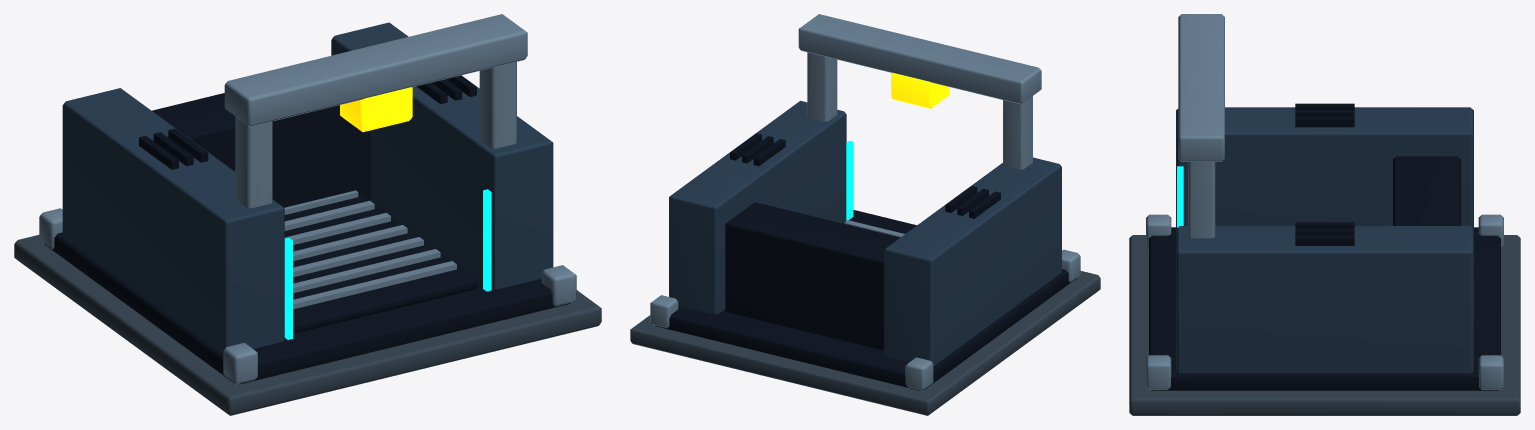
The model's file is fabricator.glb.
3 views of the same model, side by side, from view 1: azimuth 30°, elevation 25°; view 2: azimuth 150°, elevation 25°; view 3: azimuth 270°, elevation 25° (orthographic). The views are drawn at different scales.
Visible parts, largest first — view 1: Factory side pod, Factory side pod.001, Foundation, Gantry bridge, Undercarriage, Rear workshop, Conveyor, Gantry pillar, Gantry pillar.001, Manipulator carriage, Conveyor rib.006, Conveyor rib.005 (+13 smaller); view 2: Factory side pod, Rear workshop, Factory side pod.001, Foundation, Undercarriage, Gantry bridge, Gantry pillar, Gantry pillar.001, Manipulator carriage, Corner lock, Corner lock.002, Door guidance.001 (+1 smaller); view 3: Factory side pod.001, Factory side pod, Foundation, Undercarriage, Gantry bridge, Rear workshop, Gantry pillar.001, Corner lock.002, Corner lock.003, Cooling fin.002, Cooling fin.005, Corner lock (+6 smaller).
Boxes of the visible parts, bbox=[...] form: Factory side pod: bbox=[62, 88, 284, 353]; Factory side pod.001: bbox=[331, 22, 553, 289]; Foundation: bbox=[14, 235, 601, 415]; Gantry bridge: bbox=[224, 14, 527, 126]; Undercarriage: bbox=[44, 200, 570, 384]; Rear workshop: bbox=[152, 93, 370, 207]; Conveyor: bbox=[284, 194, 477, 333]; Gantry pillar: bbox=[235, 116, 272, 208]; Gantry pillar.001: bbox=[479, 62, 516, 148]; Manipulator carriage: bbox=[340, 87, 412, 132]; Conveyor rib.006: bbox=[293, 261, 456, 309]; Conveyor rib.005: bbox=[293, 249, 440, 293]; Factory side pod: bbox=[884, 157, 1061, 366]; Rear workshop: bbox=[725, 202, 899, 350]; Factory side pod.001: bbox=[669, 100, 846, 314]; Foundation: bbox=[630, 271, 1100, 415]; Undercarriage: bbox=[655, 210, 1076, 390]; Gantry bridge: bbox=[798, 14, 1041, 104]; Gantry pillar: bbox=[1003, 96, 1032, 169]; Gantry pillar.001: bbox=[807, 52, 837, 121]; Manipulator carriage: bbox=[891, 72, 949, 108]; Corner lock: bbox=[905, 357, 933, 390]; Corner lock.002: bbox=[650, 295, 678, 328]; Door guidance.001: bbox=[846, 140, 853, 220]; Factory side pod.001: bbox=[1176, 226, 1473, 373]; Factory side pod: bbox=[1176, 107, 1473, 228]; Foundation: bbox=[1129, 235, 1520, 415]; Undercarriage: bbox=[1149, 227, 1500, 390]; Gantry bridge: bbox=[1178, 14, 1224, 161]; Rear workshop: bbox=[1393, 156, 1460, 225]; Gantry pillar.001: bbox=[1188, 162, 1215, 238]; Corner lock.002: bbox=[1478, 355, 1503, 389]; Corner lock.003: bbox=[1146, 355, 1171, 389]; Cooling fin.002: bbox=[1295, 116, 1354, 127]; Cooling fin.005: bbox=[1295, 235, 1354, 245]; Corner lock: bbox=[1478, 214, 1503, 248].
Size of the model in its own units: 4.6 by 3.38 by 4.6.
